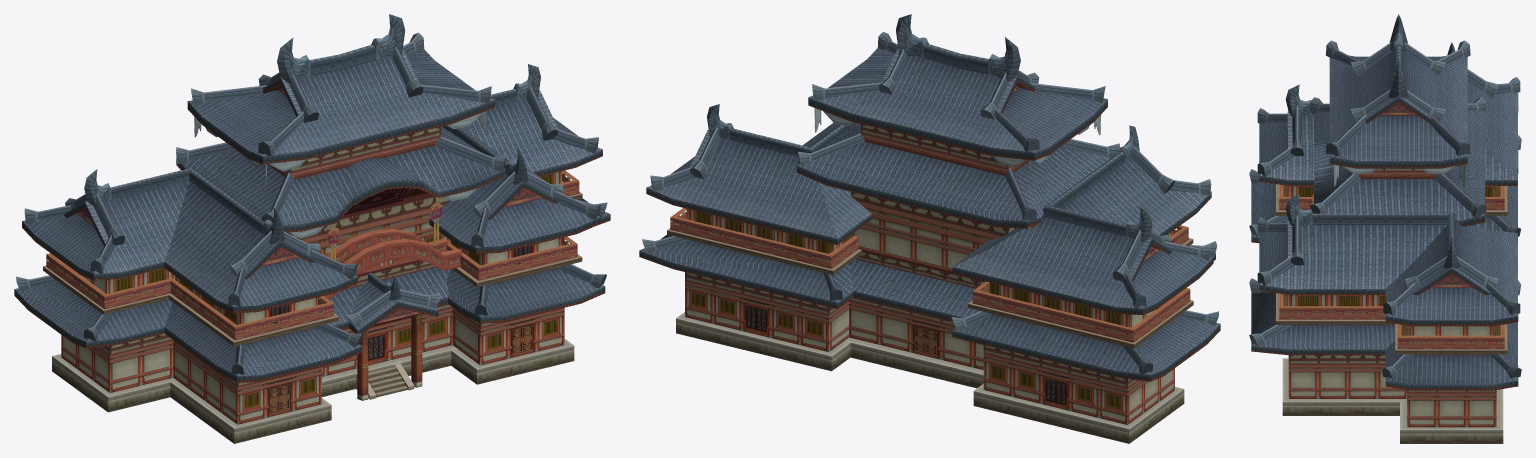
3 views of the same model, side by side, from view 1: azimuth 30°, elevation 25°; view 2: azimuth 150°, elevation 25°; view 3: azimuth 270°, elevation 25° (orthographic). The views are drawn at different scales.
Visible parts, largest first — view 1: gujian_93, gujian_87, gujian_95, gujian_96, gujian_97, gujian_89, gujian_88, gujian_90, gujian_94, gujian_98, gujian_92; view 2: gujian_93, gujian_87, gujian_95, gujian_97, gujian_96, gujian_89, gujian_88, gujian_94, gujian_98; view 3: gujian_93, gujian_87, gujian_96, gujian_95, gujian_89, gujian_88, gujian_97, gujian_92, gujian_98, gujian_91.
Boxes of the visible parts, x1,y1,x2,y2 form: gujian_93: (14,48,610,382); gujian_87: (16,14,607,374); gujian_95: (43,127,582,432); gujian_96: (61,205,561,424); gujian_97: (107,171,564,424); gujian_89: (46,170,579,339); gujian_88: (52,350,574,443); gujian_90: (318,229,461,300); gujian_94: (265,244,536,417); gujian_98: (194,110,487,260); gujian_92: (76,87,541,324); gujian_93: (639,48,1220,381); gujian_87: (642,14,1219,374); gujian_95: (667,124,1193,433); gujian_97: (685,208,1172,424); gujian_96: (829,201,1174,424); gujian_89: (670,208,1190,342); gujian_88: (676,323,1184,443); gujian_94: (742,295,1070,410); gujian_98: (814,108,1101,184); gujian_93: (1251,52,1518,390); gujian_87: (1249,14,1521,378); gujian_96: (1288,326,1496,427); gujian_95: (1276,168,1507,433); gujian_89: (1279,184,1504,349); gujian_88: (1282,406,1503,443); gujian_97: (1288,186,1492,314); gujian_92: (1380,103,1472,287); gujian_98: (1333,164,1465,187); gujian_91: (1281,185,1501,343).
Size of the model in its own units: 3.93 by 2.37 by 1.92.
12 materials, 12 textured.
